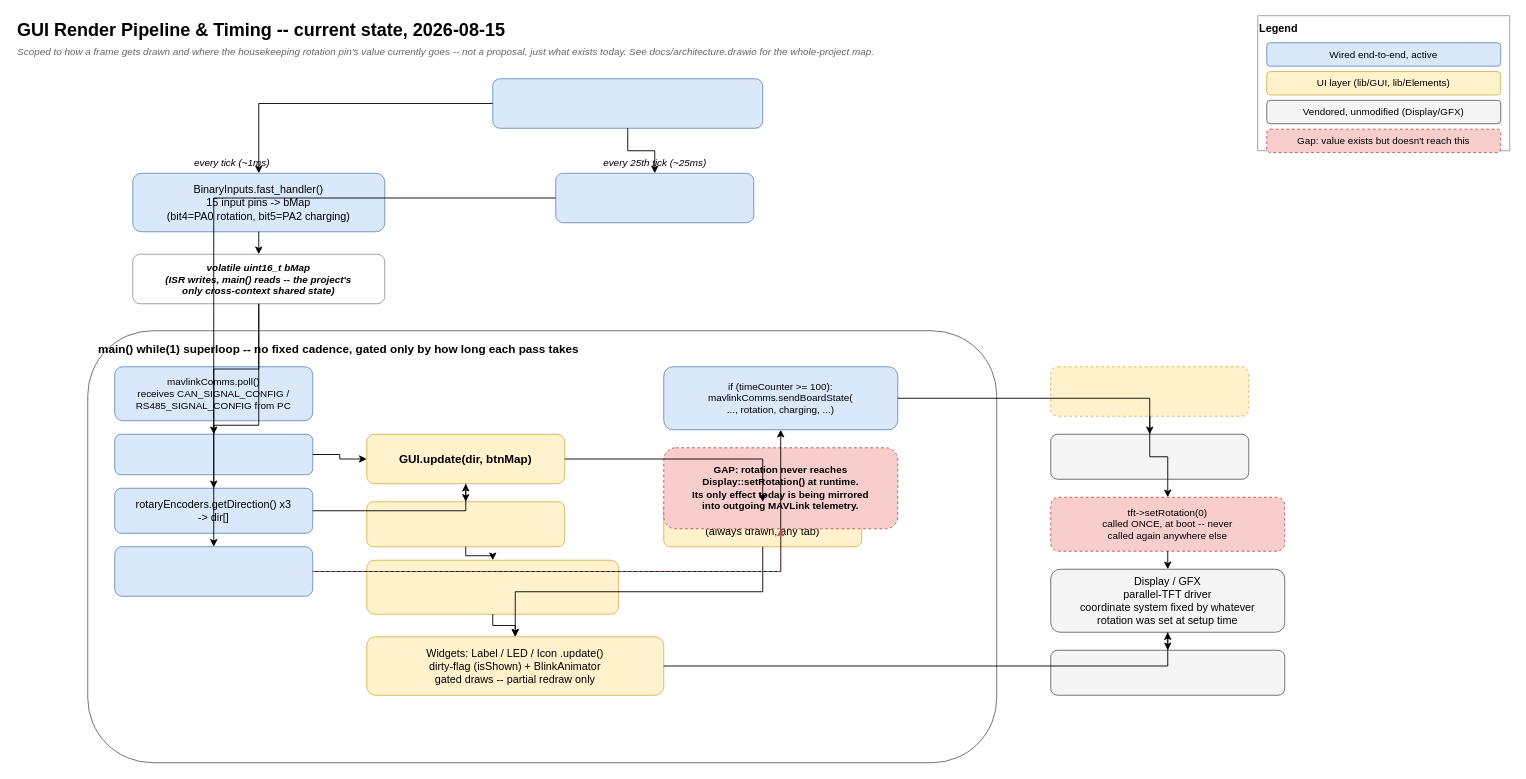
Image size: 1526x779. Some labels were removed from this diagram. Each missing label, with the box of its shape:
Active screen (per TabSelector): PWMScreen | BusStatusScreen | RelayScreen: (366, 559, 619, 614)
buildButtonMap(bMap) -> btnMap: (114, 433, 313, 475)
fillRect / println / fillCircle / drawFastHLine / drawRGBBitmap: (1050, 649, 1285, 695)
GUI.setup() boot-time only, not part of the superloop: (1050, 366, 1249, 416)
ISR(TIMER2_COMPA_vect) ~1.008ms system tick: (492, 78, 763, 128)
PC app (IHM-PCApp) over MAVLink / USART0: (1050, 433, 1249, 479)
RotaryEncoder.ms_handler(bMap) quadrature decode: (555, 172, 754, 223)
rotation = (bMap>>4) & 0x01 charging = (bMap>>5) & 0x01: (114, 546, 313, 596)
TabSelector (PWM / SERIAL / Output): (366, 501, 565, 547)
